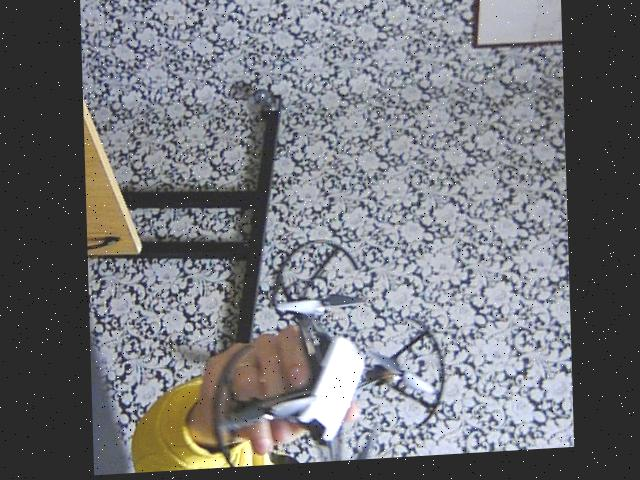drone: (206, 233, 459, 471)
